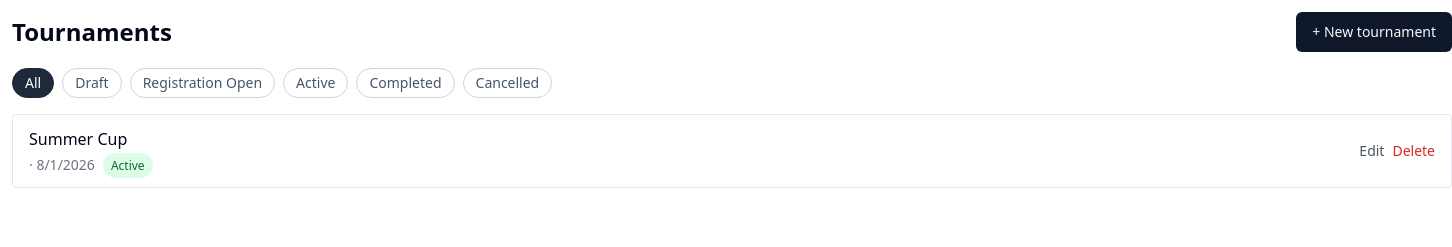
TournamentListClient › shows "only draft tournaments" message for active tournament
Step 1. Click the button "Delete" → (1414, 151), box x1=1392 y1=141 x2=1435 y2=161
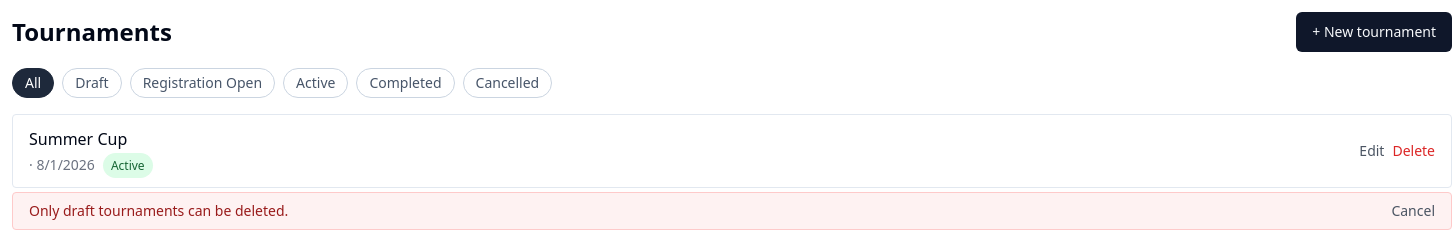
Expected: the text "Only draft tournaments can be deleted." is shown, x1=29 y1=201 x2=288 y2=221
